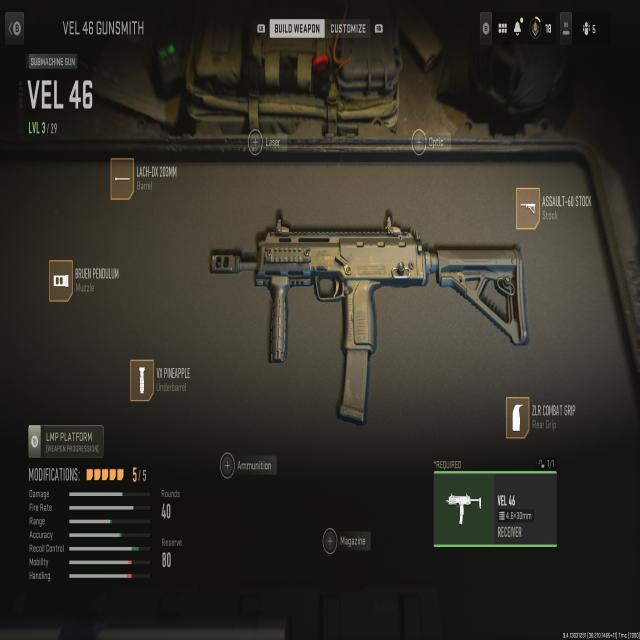smg: (208, 210, 528, 415)
